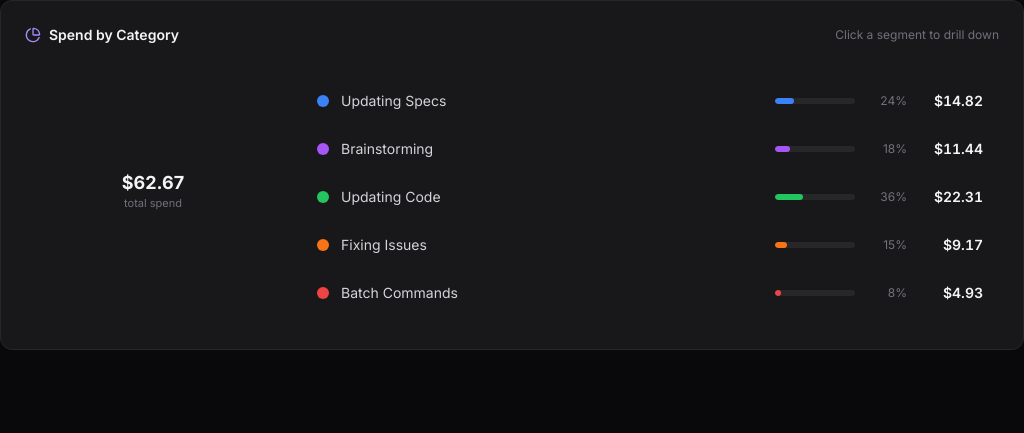
Scenario: SpendByCategory › shows drill-down panel when a category is selected
Click the button "Fixing Issues 15% $9.17" at (384, 244), box [305,225,995,265]
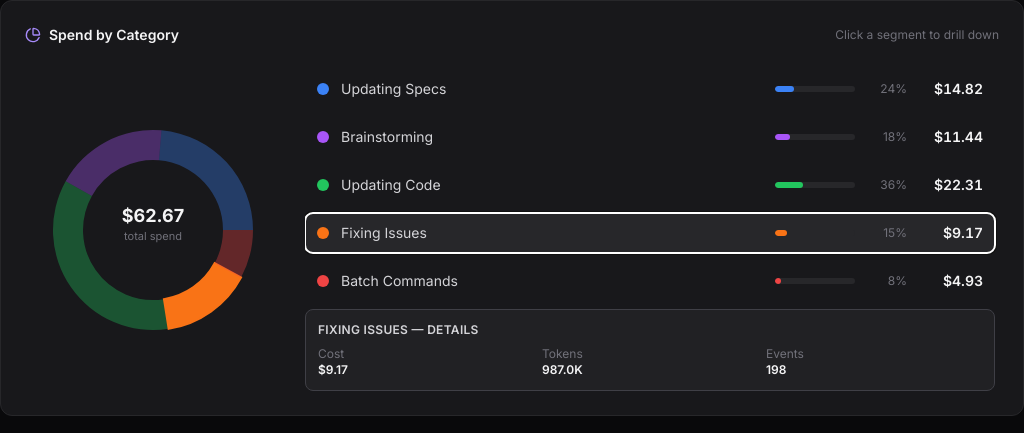
Result: the text "Fixing Issues — Details" is shown at [318,322,479,337]
